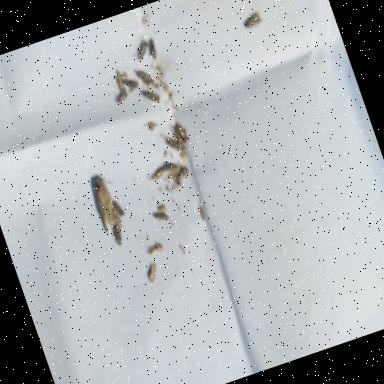pbw: (135, 66, 155, 88), (242, 12, 264, 30), (133, 42, 152, 61), (110, 223, 125, 246), (161, 164, 182, 180), (145, 263, 161, 284), (142, 88, 160, 106), (121, 75, 140, 91), (114, 70, 128, 90), (146, 244, 166, 258), (153, 209, 171, 224), (148, 39, 160, 60), (115, 89, 130, 103), (151, 169, 167, 182)
